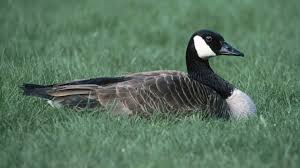goose: (20, 28, 259, 122)
